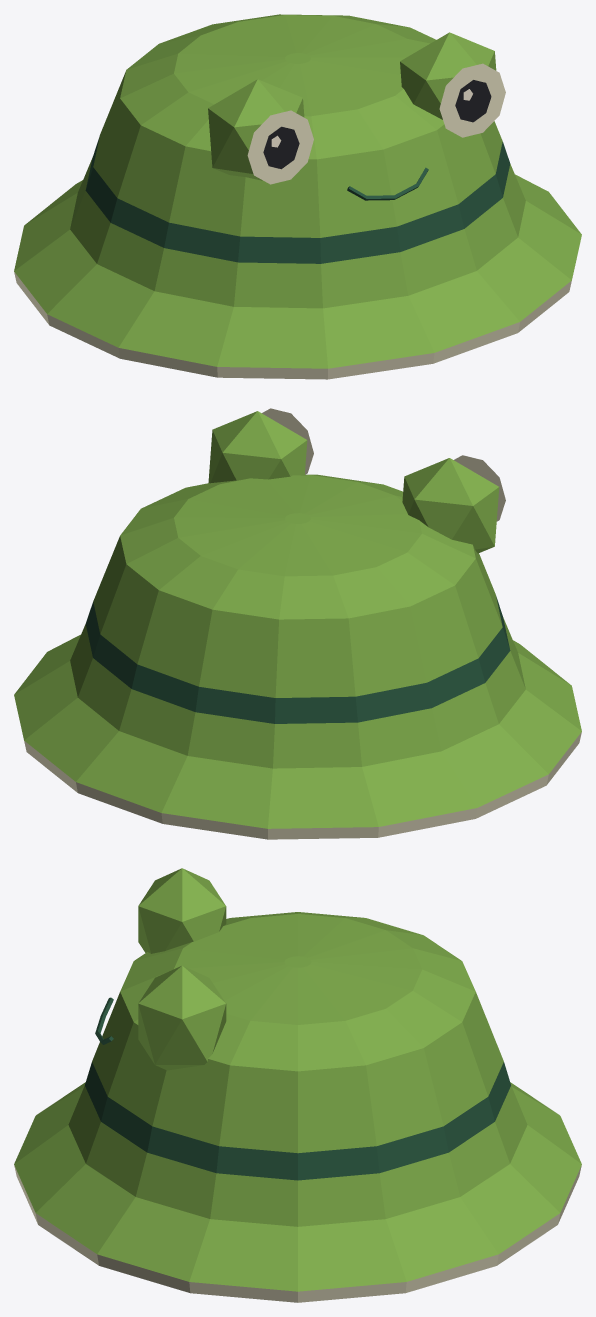
Rendered from hat-frog-days.glb.
3 views of the same model, one above another, from view 1: azimuth 30°, elevation 25°; view 2: azimuth 150°, elevation 25°; view 3: azimuth 270°, elevation 25° (orthographic). The views are drawn at different scales.
Visible parts, largest first — view 1: hat-frog-days_ref2_hat-frog-days__head_mesh; view 2: hat-frog-days_ref2_hat-frog-days__head_mesh; view 3: hat-frog-days_ref2_hat-frog-days__head_mesh.
Part boxes in pixels (box(x1,y1,x2,y2)): hat-frog-days_ref2_hat-frog-days__head_mesh: box(14, 14, 581, 379); hat-frog-days_ref2_hat-frog-days__head_mesh: box(14, 408, 581, 839); hat-frog-days_ref2_hat-frog-days__head_mesh: box(14, 868, 581, 1302).
Size of the model in its own units: 0.664 by 0.316 by 0.626.
